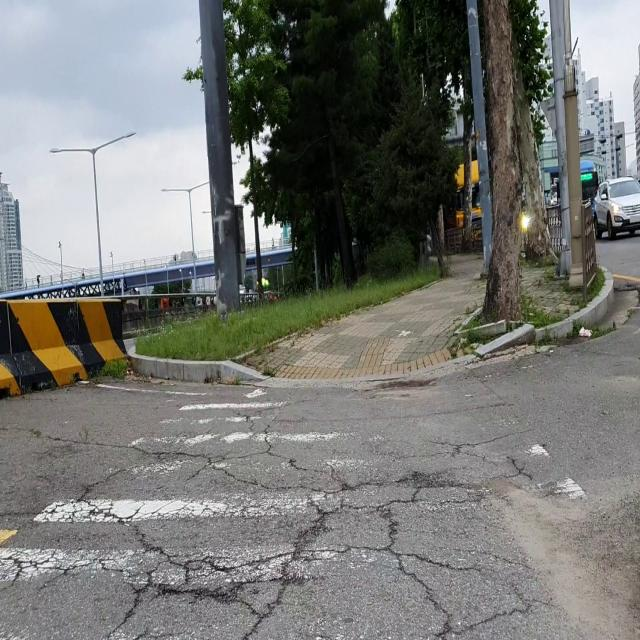횡단보도: (0, 382, 588, 640)
